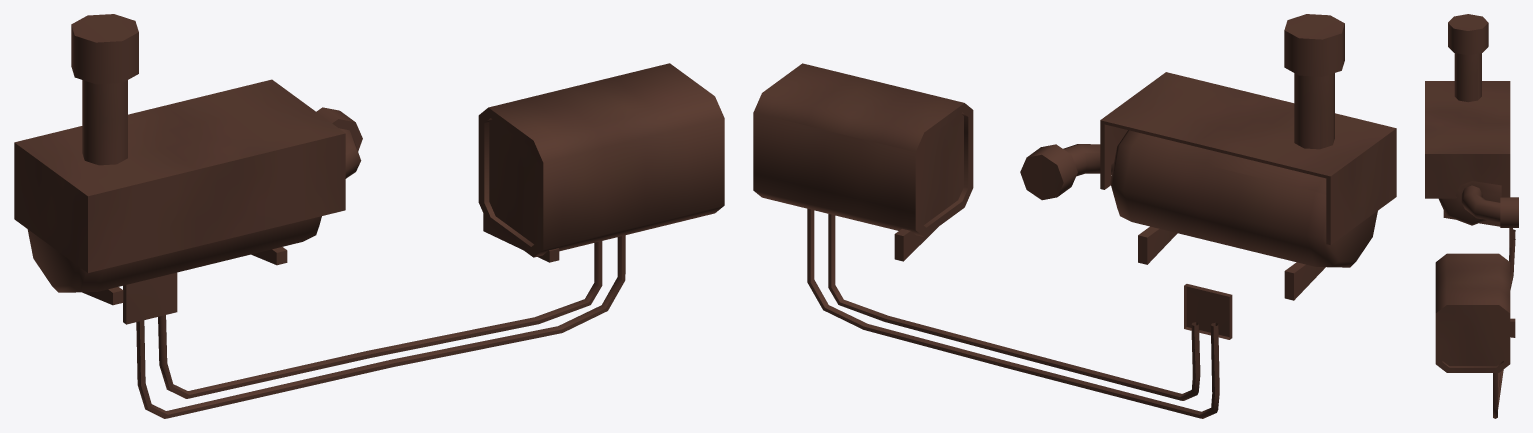
The model's file is HissMachine.fbx.
3 renders of one model, left to right at view 1: azimuth 30°, elevation 25°; view 2: azimuth 150°, elevation 25°; view 3: azimuth 270°, elevation 25°, orthographic. The views are drawn at different scales.
Parts seen in each view (by area): view 1: Cube.084; view 2: Cube.084; view 3: Cube.084.
Boxes of the visible parts, bbox=[...] form: Cube.084: bbox=[14, 14, 724, 418]; Cube.084: bbox=[753, 14, 1396, 418]; Cube.084: bbox=[1425, 14, 1518, 418].
Bounding box in the file's own units: 247 × 161 × 53.76.
